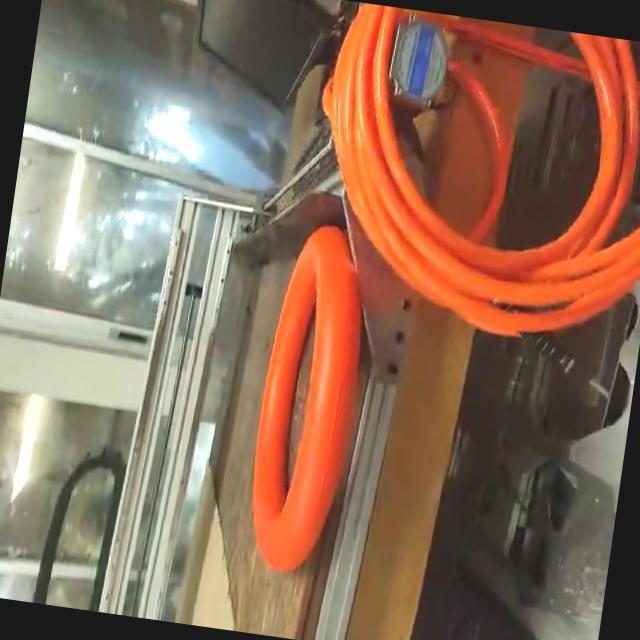note: (236, 220, 379, 584)
